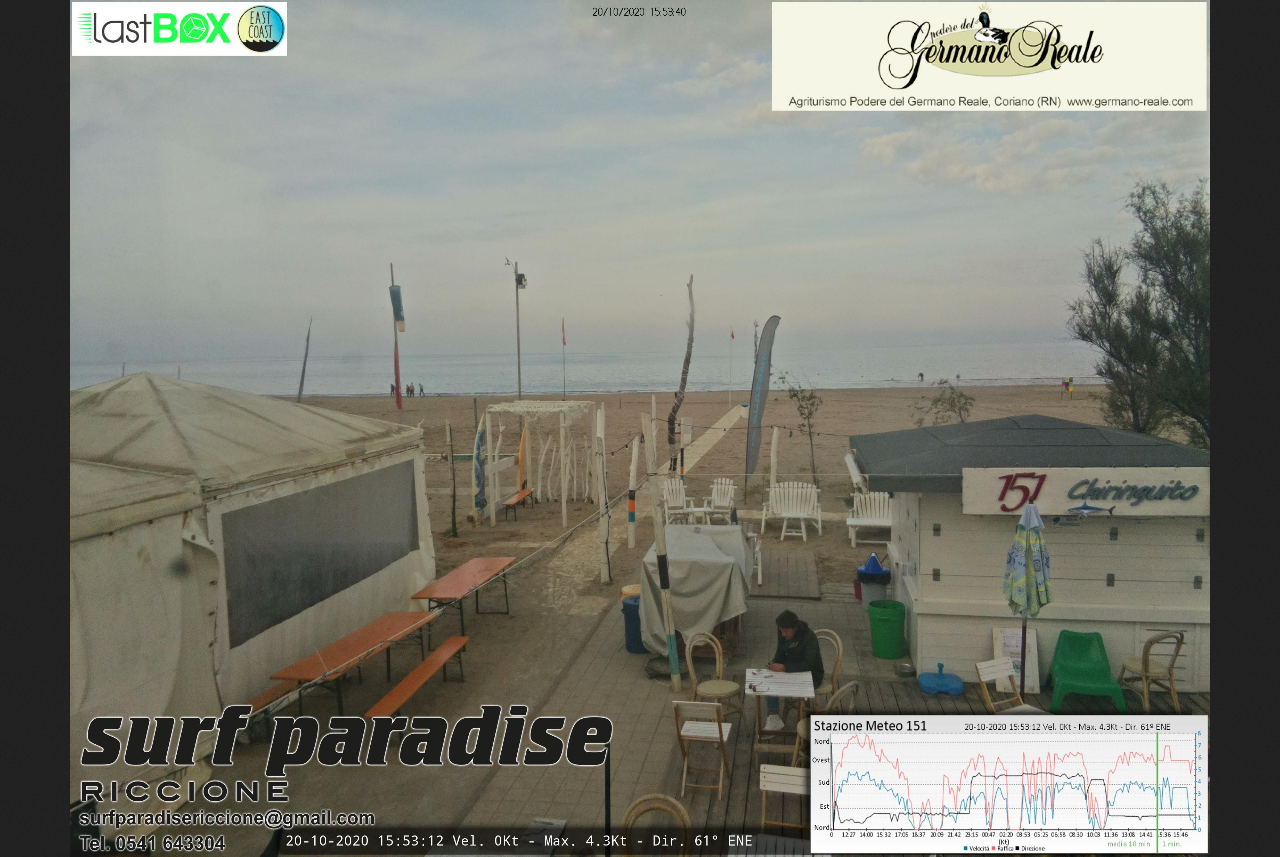no: (731, 325, 735, 342)
